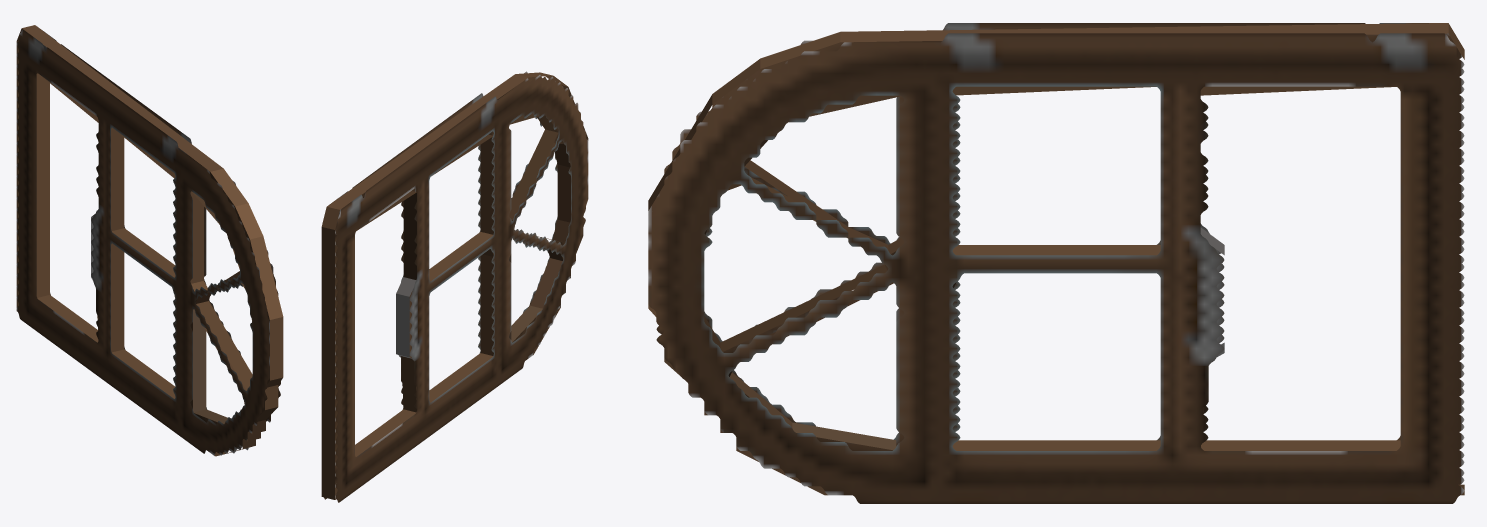
The model's file is pz_native_fixtures_windows_wood_50_frame.obj.
3 views of the same model, side by side, from view 1: azimuth 30°, elevation 25°; view 2: azimuth 150°, elevation 25°; view 3: azimuth 270°, elevation 25° (orthographic). The views are drawn at different scales.
Parts seen in each view (by area): view 1: pz_native_fixtures_windows_wood_50_frame; view 2: pz_native_fixtures_windows_wood_50_frame; view 3: pz_native_fixtures_windows_wood_50_frame.
Part boxes in pixels (<box>): pz_native_fixtures_windows_wood_50_frame: <box>16,25,283,456</box>; pz_native_fixtures_windows_wood_50_frame: <box>321,71,588,502</box>; pz_native_fixtures_windows_wood_50_frame: <box>648,23,1464,503</box>.
Bounding box in the file's own units: 0.04 × 0.8594 × 1.35.
1 material, 1 textured.
